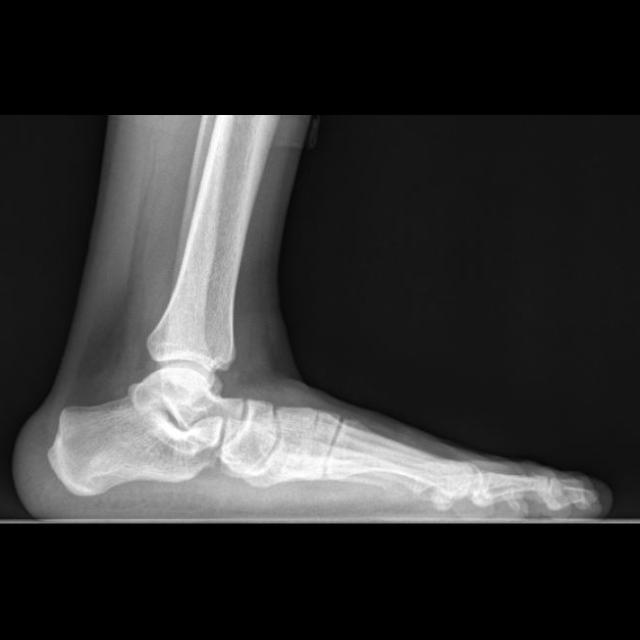a: (46, 391, 222, 494)
b: (221, 397, 274, 468)
c: (326, 419, 479, 499)
